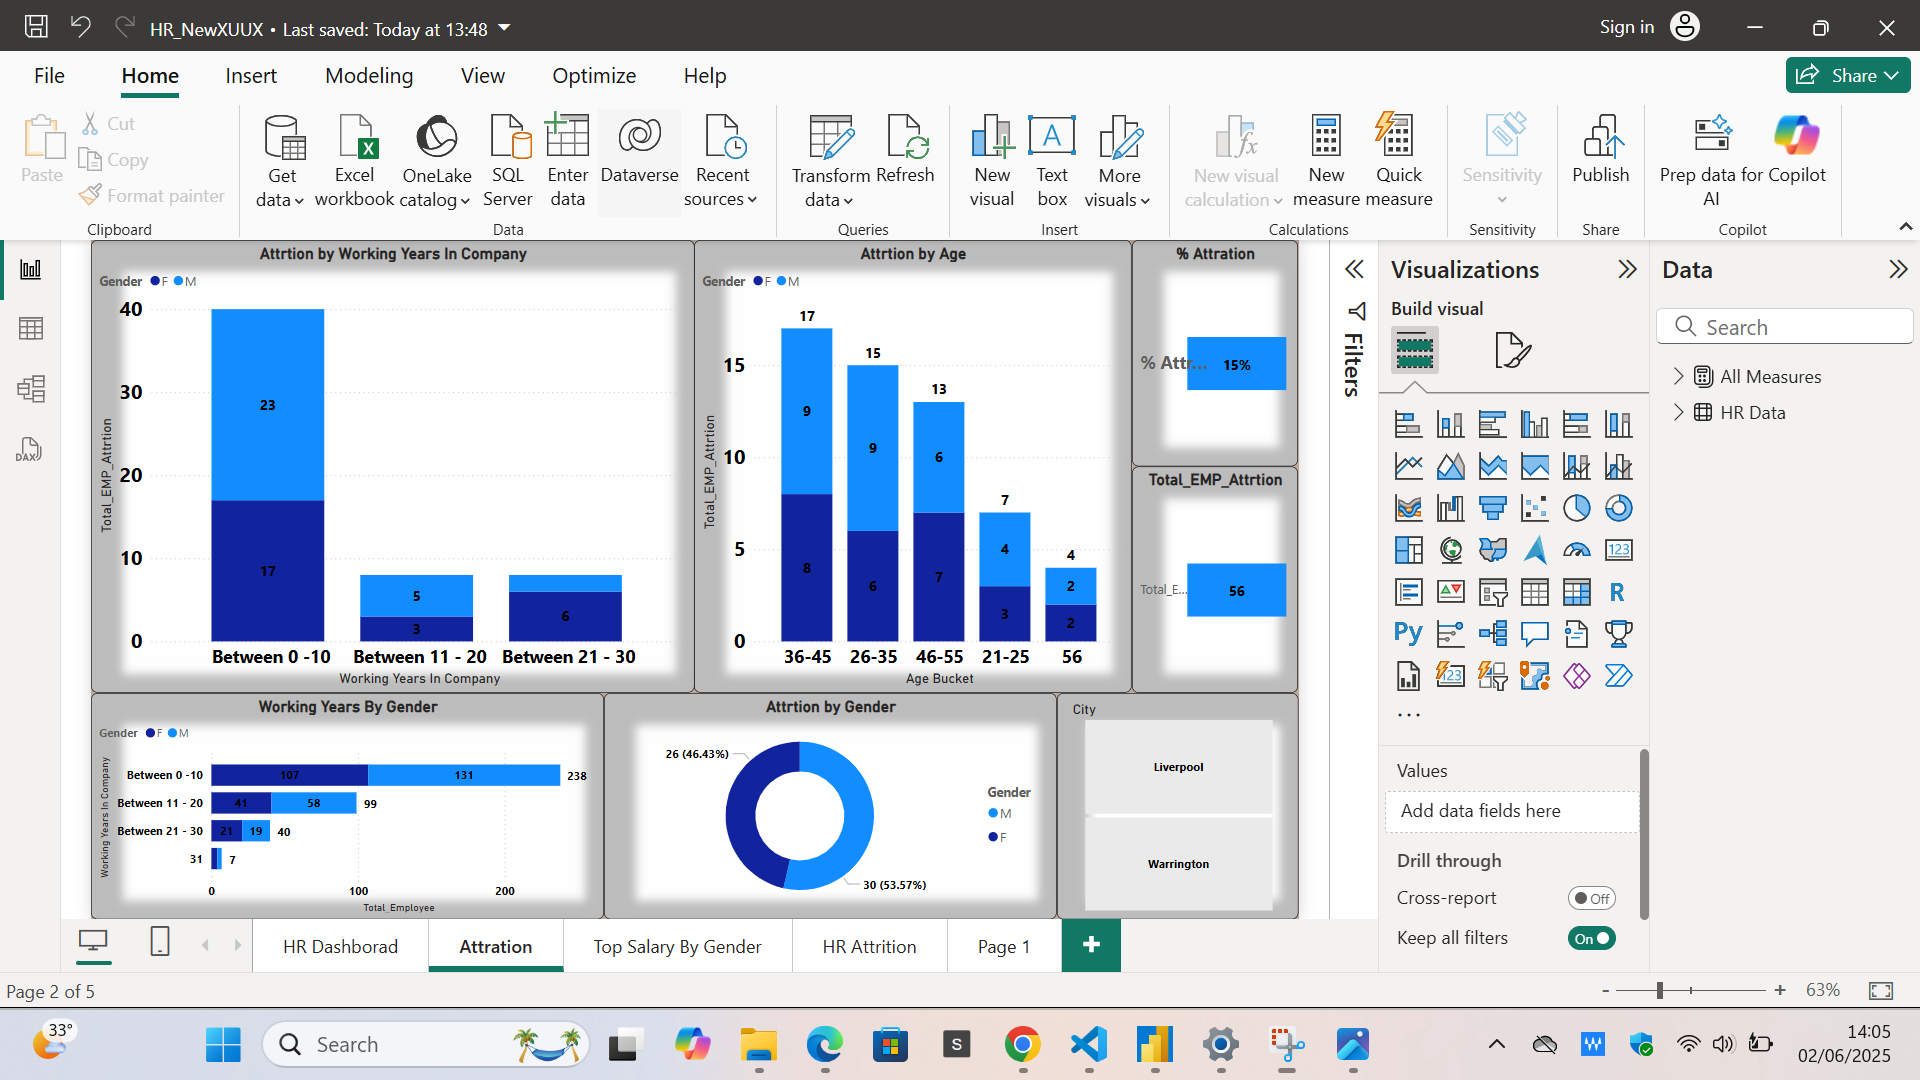

This screenshot's page, from the dashboard's own definition file:
{"tool":"powerbi","page":{"name":"Attration","canvas":[1280,720],"ordinal":1},"visuals":[{"type":"funnel","fields":{"Y":["All Measures.Total_EMP_Attrtion"]},"box":[1104,240,176,240],"z":0},{"type":"columnChart","title":"Attrtion by Age ","fields":{"Category":["HR Data.Age Bucket"],"Y":["All Measures.Total_EMP_Attrtion"],"Series":["HR Data.Gender"]},"box":[640,0,464,480],"z":1000},{"type":"donutChart","title":"Attrtion by Gender","fields":{"Category":["HR Data.Gender"],"Y":["All Measures.Total_EMP_Attrtion"]},"box":[544,480,480,240],"z":2000},{"type":"barChart","title":" Working Years By Gender","fields":{"Category":["HR Data.Working Years In Company"],"Y":["All Measures.Total_Emp"],"Series":["HR Data.Gender"]},"box":[0,480,544,240],"z":3000},{"type":"columnChart","title":"Attrtion by Working Years In Company","fields":{"Category":["HR Data.Working Years In Company"],"Y":["All Measures.Total_EMP_Attrtion"],"Series":["HR Data.Gender"]},"box":[0,0,640,480],"z":4000},{"type":"funnel","fields":{"Y":["All Measures.% Attration"]},"box":[1104,0,176,240],"z":5000},{"type":"slicer","fields":{"Values":["HR Data.City"]},"box":[1024,480,256,240],"z":6000}]}

Visuals, with their boxes on the page's 1280x720 design canvas (x1, y1, x2, y2). These are canvas units, not pixel positions in the 1920x1080 screenshot, which may show the page scaled, cropped or inside an application window:
funnel - All Measures.Total_EMP_Attrtion: [1104,240,1280,480]
"Attrtion by Age " columnChart: [640,0,1104,480]
"Attrtion by Gender" donutChart: [544,480,1024,720]
" Working Years By Gender" barChart: [0,480,544,720]
"Attrtion by Working Years In Company" columnChart: [0,0,640,480]
funnel - All Measures.% Attration: [1104,0,1280,240]
slicer - HR Data.City: [1024,480,1280,720]
